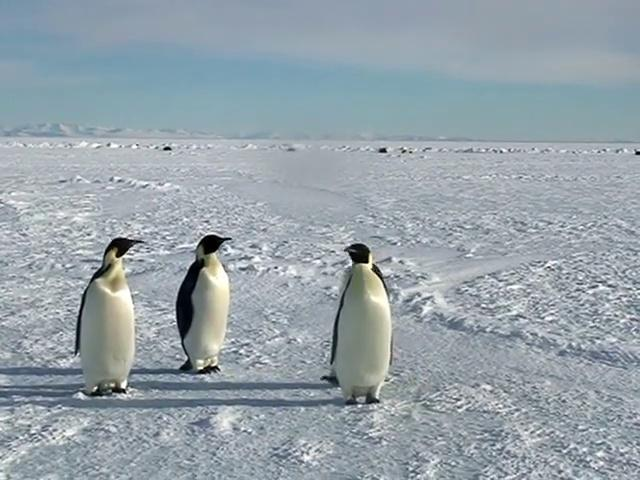animal: (324, 245, 394, 405)
